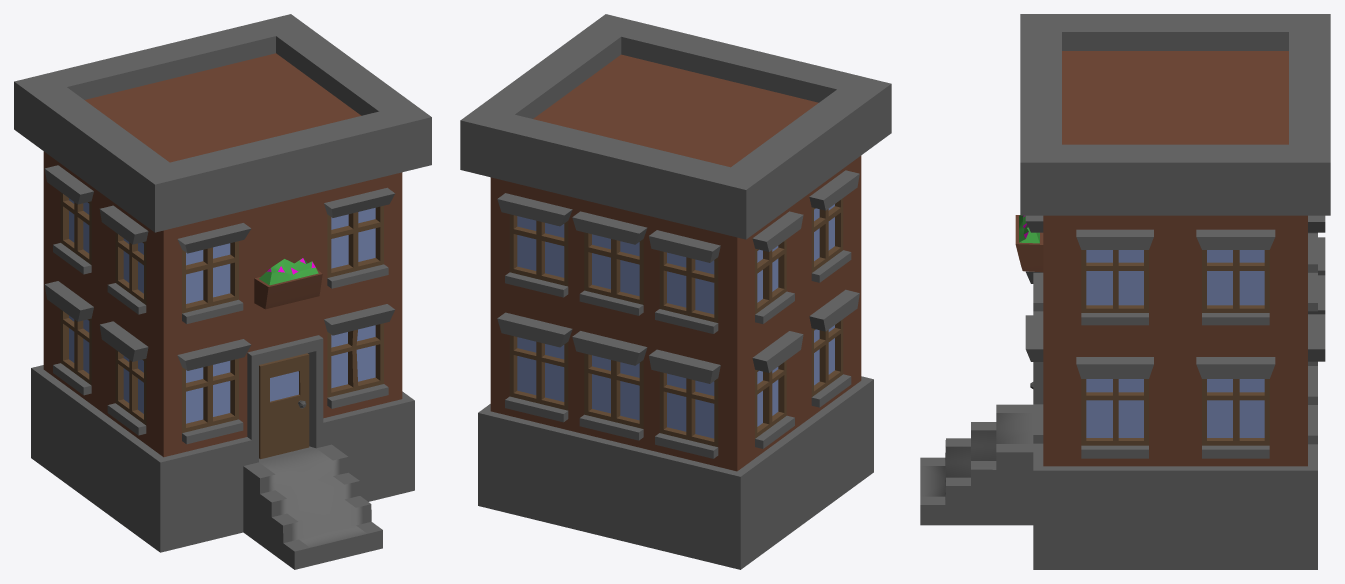
The model's file is residential.fbx.
3 views of the same model, side by side, from view 1: azimuth 30°, elevation 25°; view 2: azimuth 150°, elevation 25°; view 3: azimuth 270°, elevation 25° (orthographic). The views are drawn at different scales.
Parts seen in each view (by area): view 1: Residential_Building, Residential_Door; view 2: Residential_Building; view 3: Residential_Building.
Boxes of the visible parts, x1,y1,x2,y2 form: Residential_Building: (14, 14, 431, 569); Residential_Door: (259, 353, 309, 459); Residential_Building: (460, 14, 891, 569); Residential_Building: (920, 14, 1330, 569).
Size of the model in its own units: 673 by 872 by 785.
